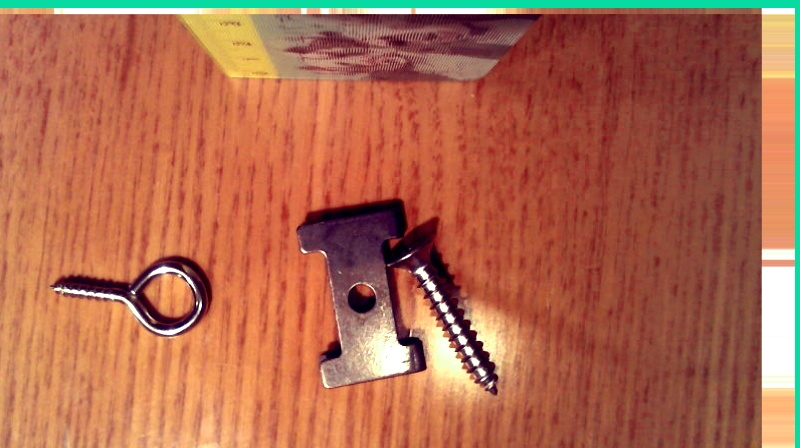O001: (40, 253, 212, 338)
O002: (295, 198, 428, 389)
S001: (382, 223, 500, 396)
